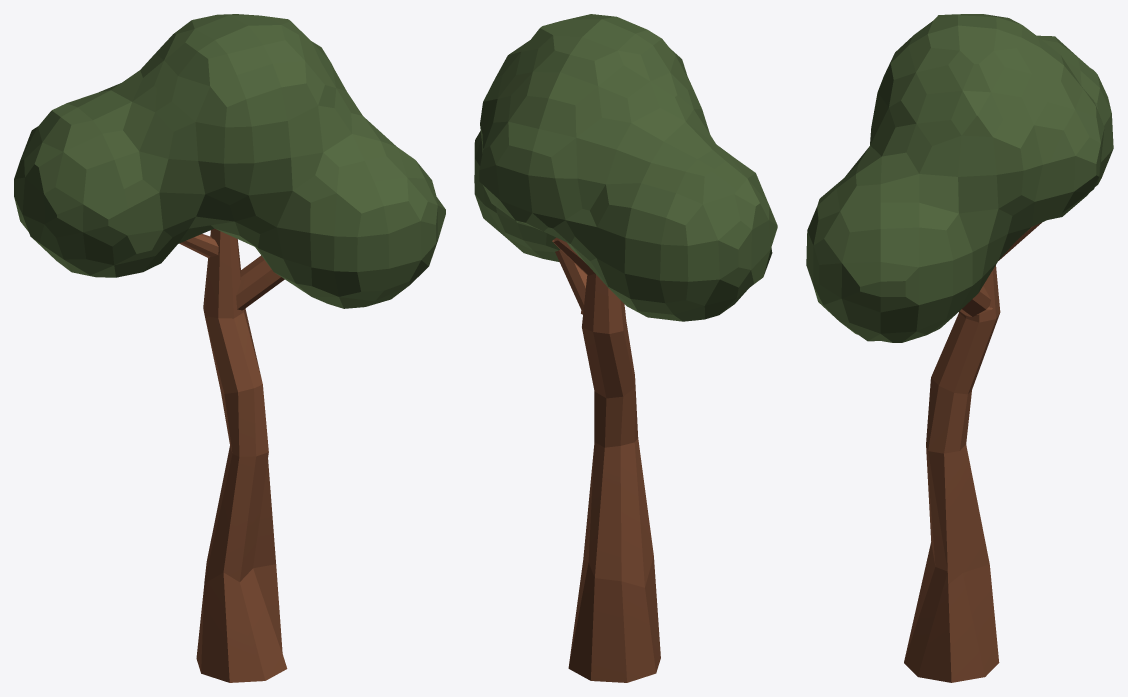
The model's file is Tree.glb.
3 views of the same model, side by side, from view 1: azimuth 30°, elevation 25°; view 2: azimuth 150°, elevation 25°; view 3: azimuth 270°, elevation 25° (orthographic).
Visible parts, largest first — view 1: Icosphere.001; view 2: Icosphere.001; view 3: Icosphere.001.
Part boxes in pixels (x1=…): Icosphere.001: x1=14, y1=14, x2=445, y2=682; Icosphere.001: x1=474, y1=14, x2=777, y2=682; Icosphere.001: x1=806, y1=14, x2=1113, y2=682.
Bounding box in the file's own units: 5.17 × 9.3 × 4.03.
1 material, 1 textured.
